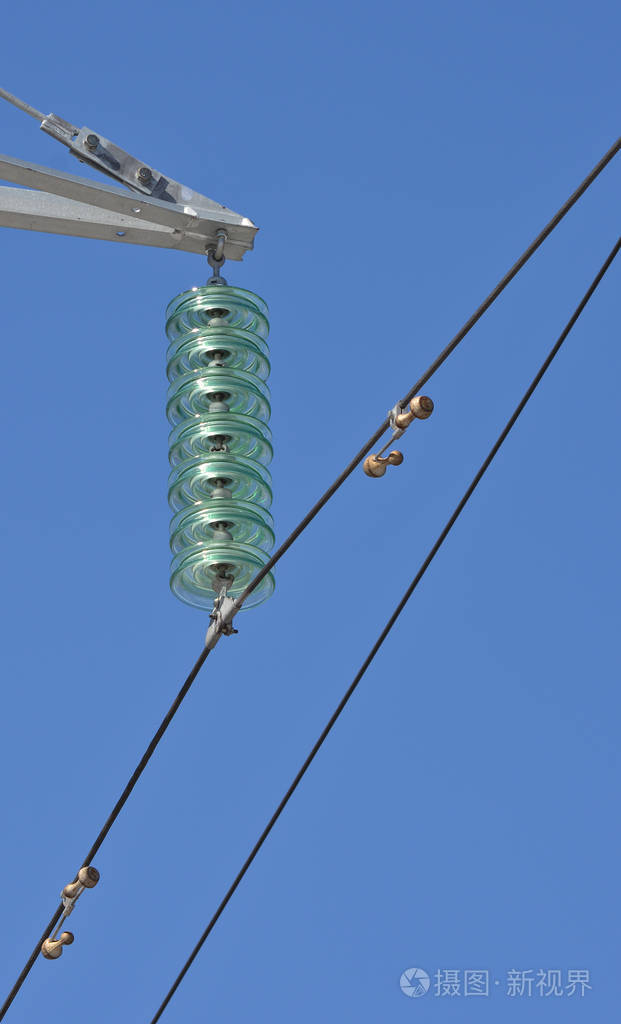insulator: (162, 285, 280, 608)
